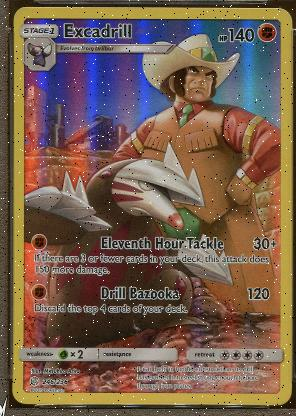Card: (12, 6, 292, 406)
